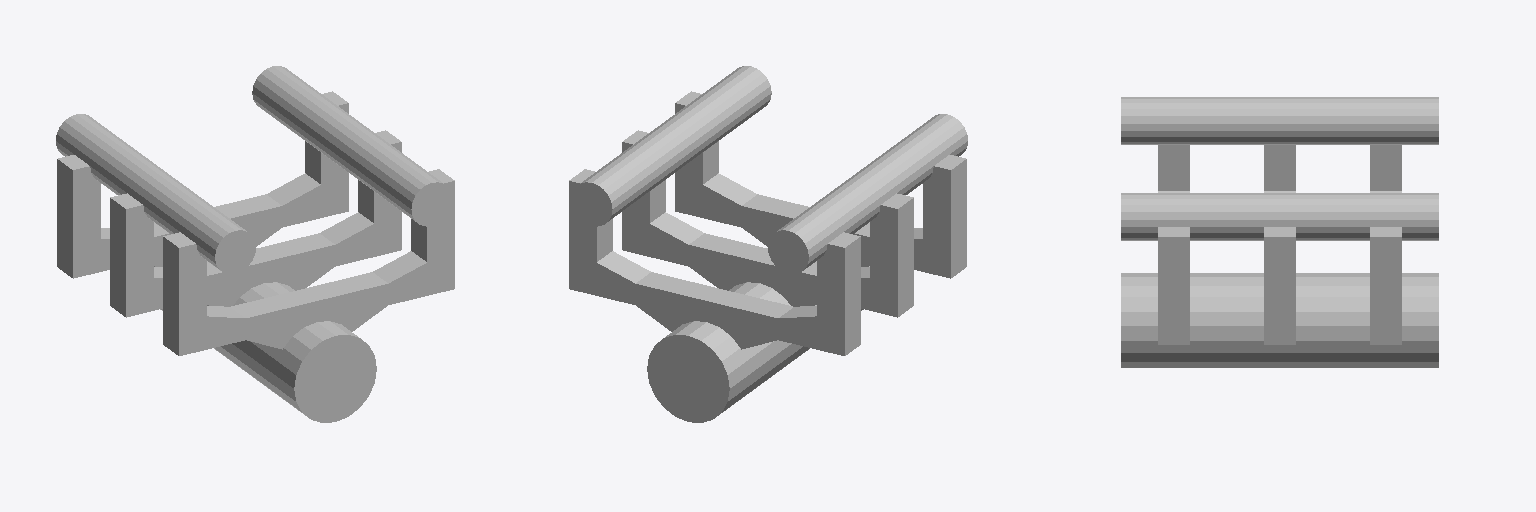
File: straight.obj
The picture shows the model from 3 angles: view 1: azimuth 30°, elevation 25°; view 2: azimuth 150°, elevation 25°; view 3: azimuth 270°, elevation 25°; orthographic projection.
Parts seen in each view (by area): view 1: straight Flat; view 2: straight Flat; view 3: straight Flat.
Boxes of the visible parts, x1=… form: straight Flat: x1=56, y1=66, x2=454, y2=422; straight Flat: x1=569, y1=66, x2=967, y2=422; straight Flat: x1=1121, y1=97, x2=1438, y2=367.
Size of the model in its own units: 1 by 0.748 by 1.